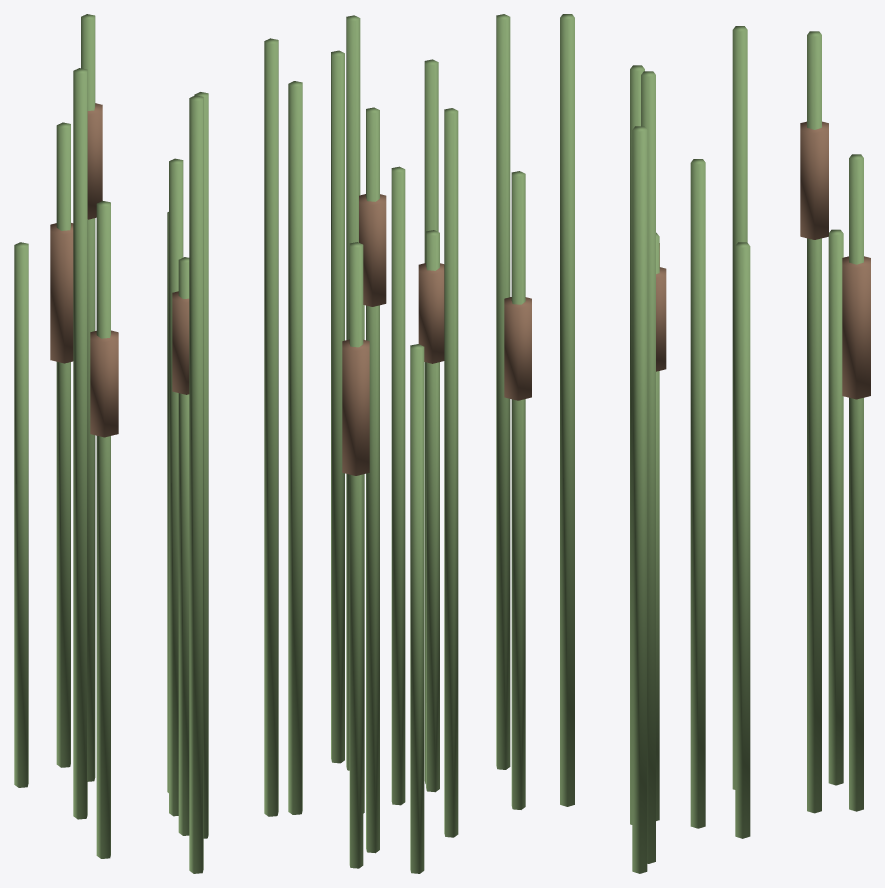
Rendered from reeds_2.glb.
3 renders of one model, left to right at view 1: azimuth 30°, elevation 25°; view 2: azimuth 150°, elevation 25°; view 3: azimuth 270°, elevation 25°, orthographic. The views are drawn at different scales.
Visible parts, largest first — view 1: reeds_2; view 2: reeds_2; view 3: reeds_2.
Boxes of the visible parts, x1,y1,x2,y2 form: reeds_2: (14,14,302,873); reeds_2: (331,14,531,873); reeds_2: (560,14,870,873).
Size of the model in its own units: 0.5649 by 1.99 by 0.7124.
